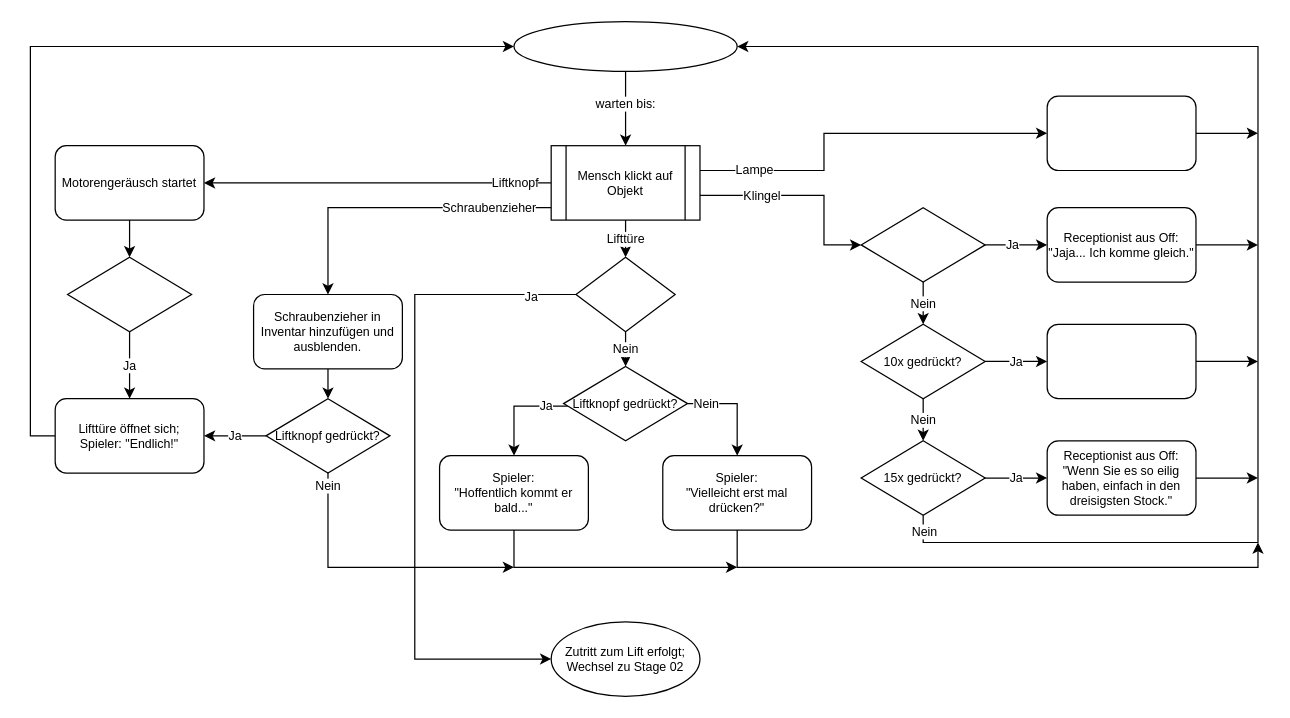
Some shapes in this 1290 by 718 pixel diagram are drawn without their labels. The shapes that lost their labels are listed below. From the top down, each one's centre as x and y in pixels, then its label:
(x=625, y=45): Start: Spieler steht beim Empfang
(x=1121, y=132): Spieler: "Da komme ich nicht ran..."
(x=922, y=244): 5x gedrückt?
(x=129, y=294): Schraubenzieher im Inventar?
(x=625, y=294): Lifttüre offen?
(x=1121, y=361): Receptionist aus Off: "SVP! Ich komme ja gleich."
